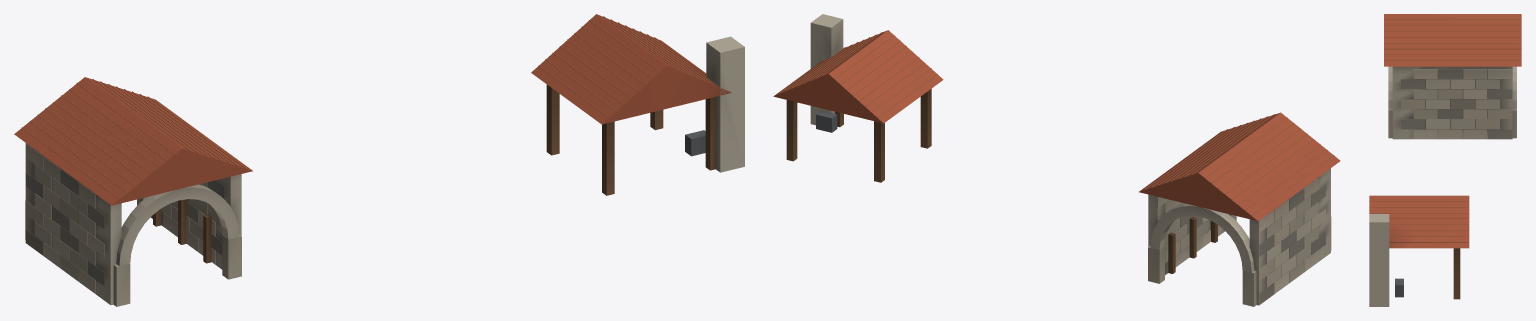
The model's file is 04_outer_buildings.glb.
3 views of the same model, side by side, from view 1: azimuth 30°, elevation 25°; view 2: azimuth 150°, elevation 25°; view 3: azimuth 270°, elevation 25° (orthographic). The views are drawn at different scales.
Visible parts, largest first — view 1: 04_outer_buildings_roof, 04_outer_buildings_stone, 04_outer_buildings_ashlar_nocol, 04_outer_buildings_rooflight_nocol, 04_outer_buildings_wood, 04_outer_buildings_ashlar, 04_outer_buildings_mortar_nocol; view 2: 04_outer_buildings_roof, 04_outer_buildings_stone, 04_outer_buildings_ashlar_nocol, 04_outer_buildings_rooflight_nocol, 04_outer_buildings_wood, 04_outer_buildings_ashlar, 04_outer_buildings_mortar_nocol, 04_outer_buildings_iron; view 3: 04_outer_buildings_roof, 04_outer_buildings_ashlar_nocol, 04_outer_buildings_stone, 04_outer_buildings_rooflight_nocol, 04_outer_buildings_mortar_nocol, 04_outer_buildings_ashlar, 04_outer_buildings_wood, 04_outer_buildings_iron.
Part boxes in pixels (x1,y1,x2,y2): 04_outer_buildings_roof: (14, 14, 731, 205); 04_outer_buildings_stone: (25, 36, 744, 306); 04_outer_buildings_ashlar_nocol: (25, 144, 221, 293); 04_outer_buildings_rooflight_nocol: (21, 16, 718, 198); 04_outer_buildings_wood: (153, 84, 715, 263); 04_outer_buildings_ashlar: (116, 184, 239, 266); 04_outer_buildings_mortar_nocol: (25, 169, 224, 286); 04_outer_buildings_roof: (773, 30, 1340, 221); 04_outer_buildings_stone: (810, 14, 1331, 306); 04_outer_buildings_ashlar_nocol: (1157, 178, 1325, 294); 04_outer_buildings_rooflight_nocol: (779, 32, 1334, 215); 04_outer_buildings_wood: (786, 89, 1217, 273); 04_outer_buildings_ashlar: (1150, 203, 1254, 272); 04_outer_buildings_mortar_nocol: (1157, 184, 1325, 304); 04_outer_buildings_iron: (816, 110, 837, 132); 04_outer_buildings_roof: (1369, 14, 1521, 248); 04_outer_buildings_ashlar_nocol: (1401, 69, 1512, 139); 04_outer_buildings_stone: (1369, 66, 1516, 306); 04_outer_buildings_rooflight_nocol: (1369, 19, 1521, 242); 04_outer_buildings_mortar_nocol: (1401, 69, 1512, 139); 04_outer_buildings_ashlar: (1388, 66, 1516, 109); 04_outer_buildings_wood: (1453, 248, 1460, 299); 04_outer_buildings_iron: (1395, 278, 1403, 297).
Bounding box in the file's own units: 228 × 51 × 68.5.
